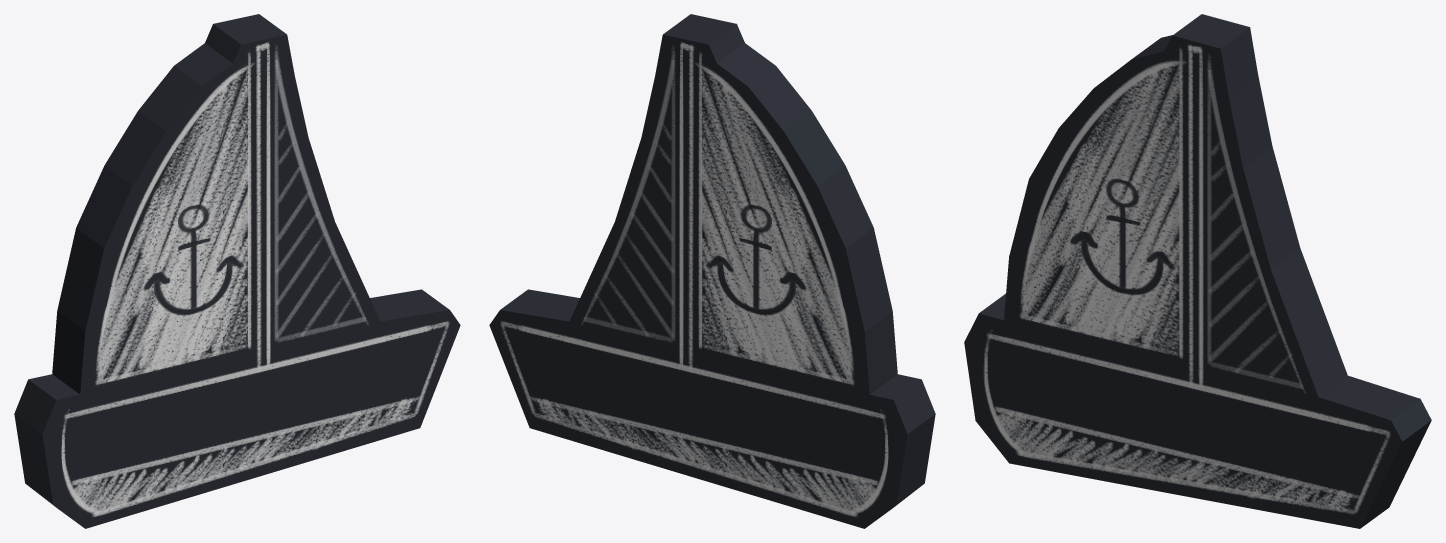
File: Boat.fbx
3 renders of one model, left to right at view 1: azimuth 30°, elevation 25°; view 2: azimuth 150°, elevation 25°; view 3: azimuth 330°, elevation 25°, orthographic. The views are drawn at different scales.
Parts seen in each view (by area): view 1: m_Boat; view 2: m_Boat; view 3: m_Boat.
Boxes of the visible parts, x1,y1,x2,y2 form: m_Boat: [14, 14, 460, 528]; m_Boat: [489, 14, 935, 528]; m_Boat: [964, 14, 1431, 528].
Bounding box in the file's own units: 0.8593 × 0.8766 × 0.1.
